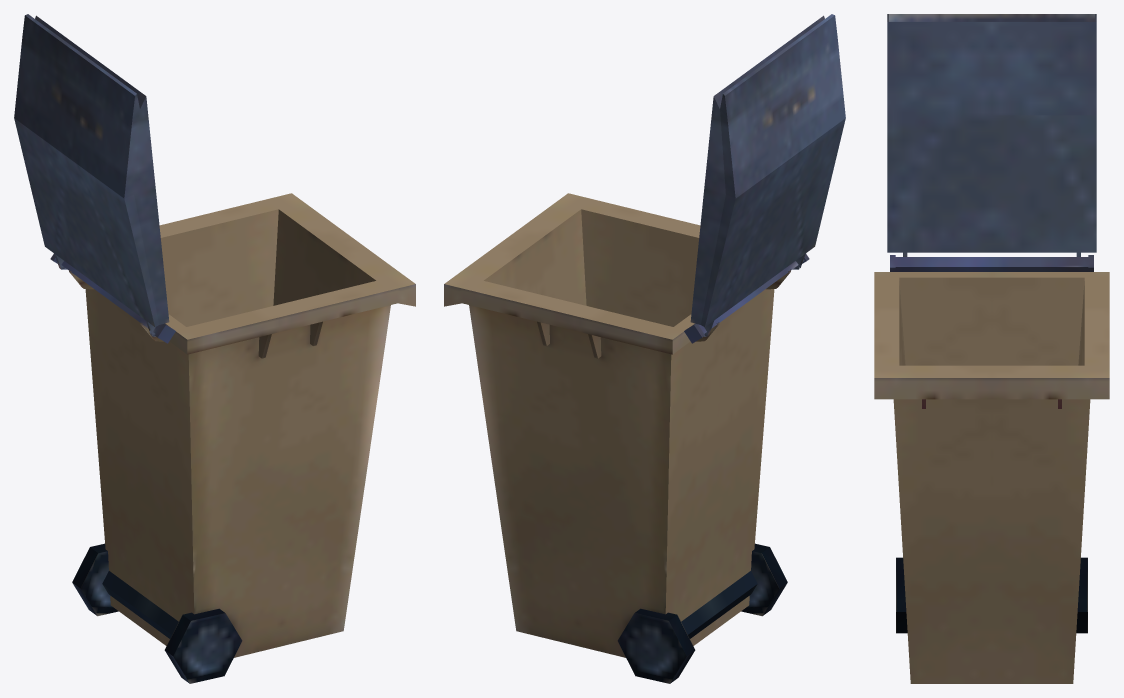
File: Urban_TrashCanOpen_Model.fbx
The picture shows the model from 3 angles, left to right: view 1: azimuth 30°, elevation 25°; view 2: azimuth 150°, elevation 25°; view 3: azimuth 270°, elevation 25°; orthographic projection. The views are drawn at different scales.
Visible parts, largest first — view 1: Urban_TrashCanOpen_Mesh; view 2: Urban_TrashCanOpen_Mesh; view 3: Urban_TrashCanOpen_Mesh.
Part boxes in pixels (x1=…): Urban_TrashCanOpen_Mesh: x1=14, y1=14, x2=415, y2=683; Urban_TrashCanOpen_Mesh: x1=444, y1=14, x2=845, y2=683; Urban_TrashCanOpen_Mesh: x1=874, y1=14, x2=1109, y2=683.
Bounding box in the file's own units: 1.03 × 2.1 × 0.7794.
